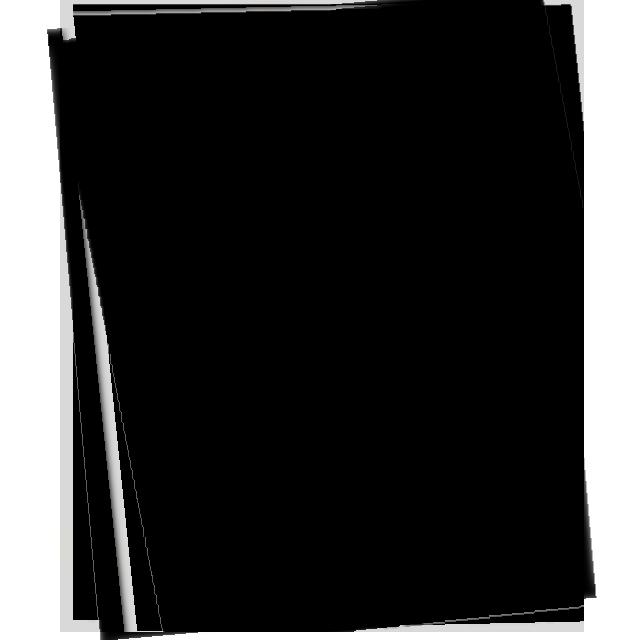Traffic-cone: (60, 0, 584, 632)
